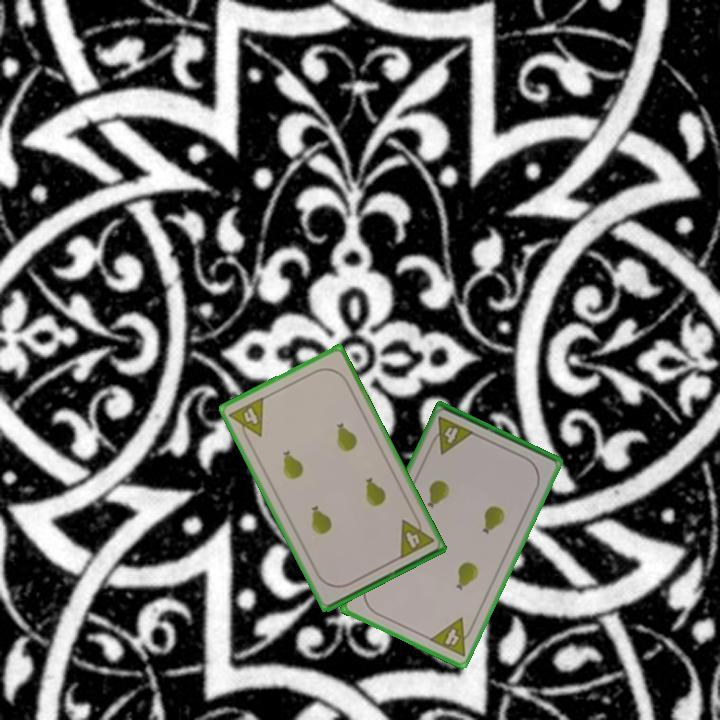4p: (426, 614, 478, 660), (426, 413, 477, 457), (225, 393, 267, 445), (395, 511, 437, 562)
